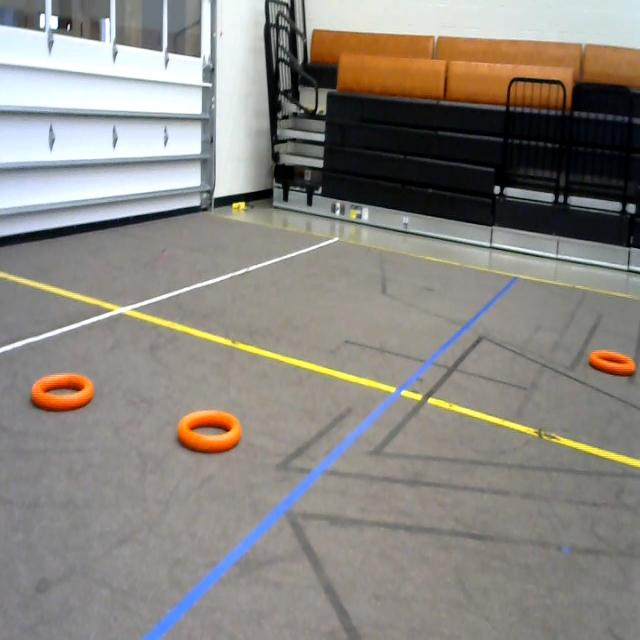note: (176, 405, 253, 455), (30, 374, 101, 414), (587, 346, 640, 390)
